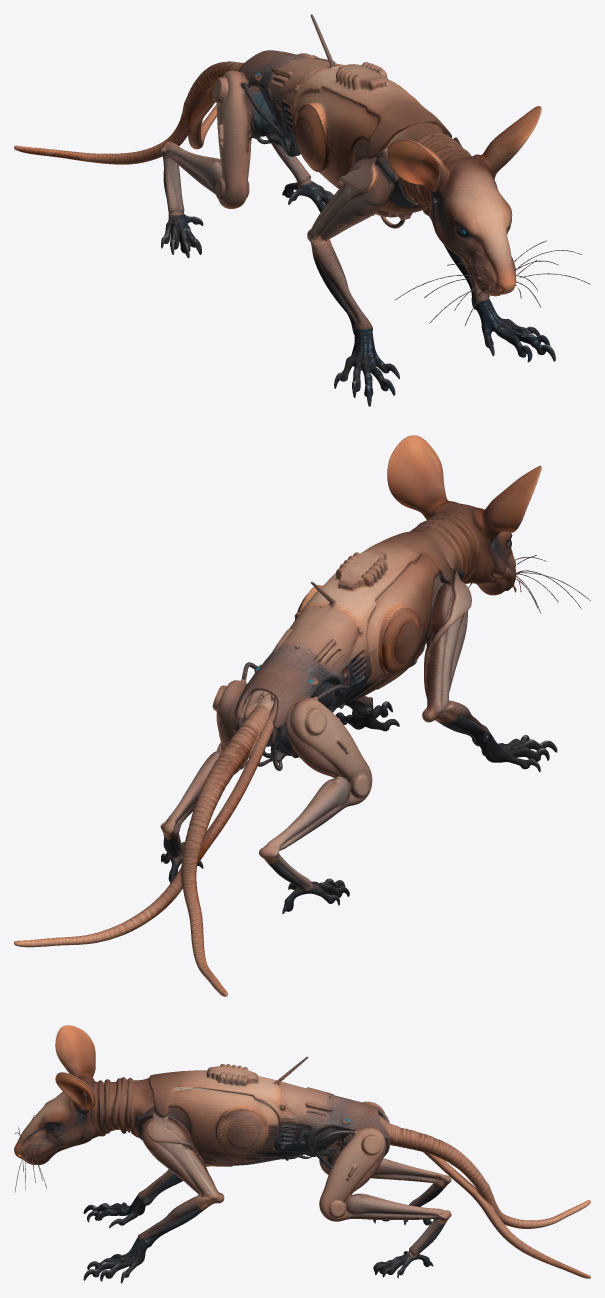
File: Meshy_AI_Large_mutated_desert__0602034558_texture.fbx
3 views of the same model, one above another, from view 1: azimuth 30°, elevation 25°; view 2: azimuth 150°, elevation 25°; view 3: azimuth 270°, elevation 25° (orthographic). The views are drawn at different scales.
Visible parts, largest first — view 1: Mesh_0; view 2: Mesh_0; view 3: Mesh_0.
Boxes of the visible parts, bbox=[...] form: Mesh_0: bbox=[14, 14, 590, 406]; Mesh_0: bbox=[14, 435, 590, 996]; Mesh_0: bbox=[14, 1025, 590, 1283].
Bounding box in the file's own units: 59.89 × 72.15 × 190.
1 material, 1 textured.
